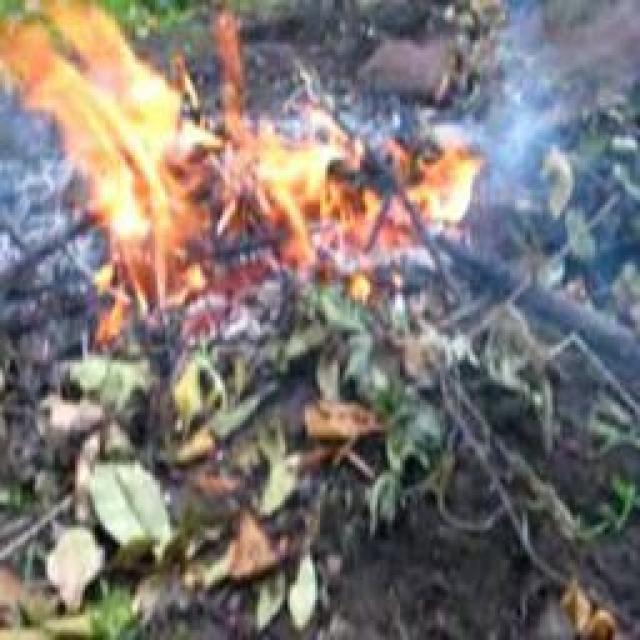Fire: (25, 7, 234, 288), (232, 135, 480, 265)
